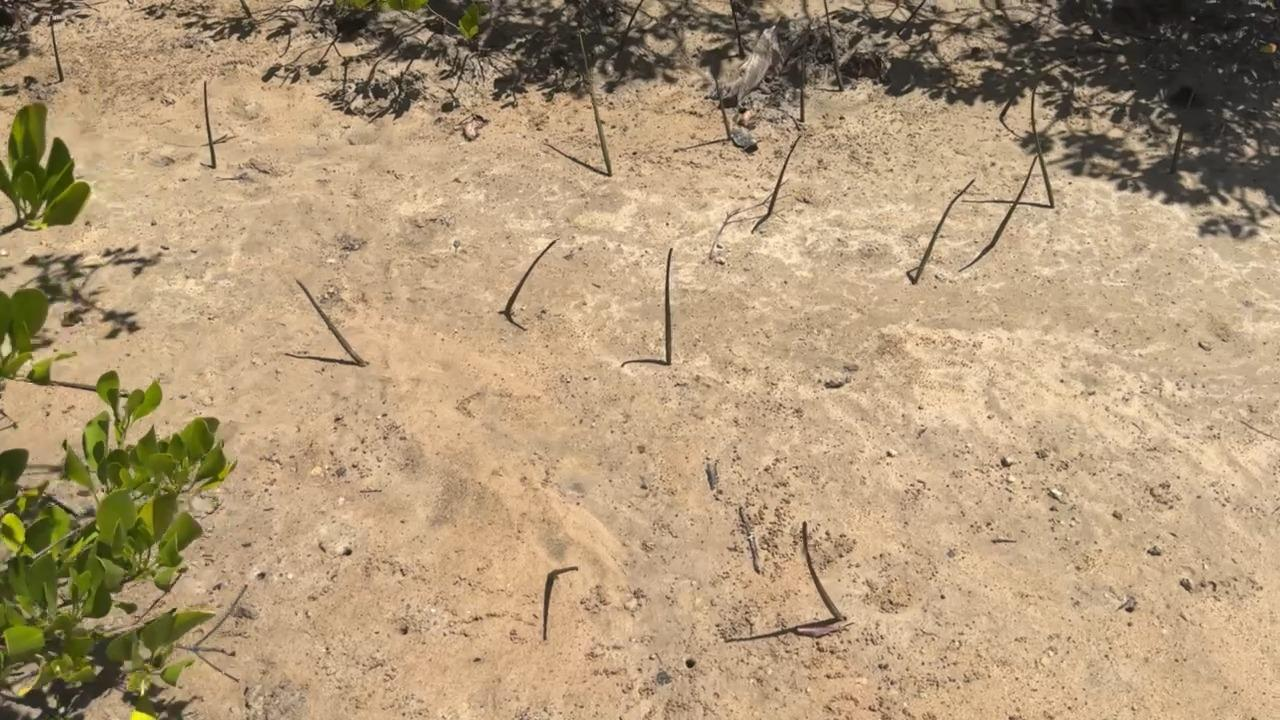Tree: (912, 176, 977, 284), (294, 276, 369, 367), (576, 26, 614, 178), (998, 57, 1077, 121), (990, 155, 1039, 248), (801, 520, 845, 623), (504, 239, 558, 316), (1030, 83, 1056, 209), (766, 136, 802, 219), (1169, 76, 1197, 177), (822, 0, 846, 91), (707, 60, 733, 141), (616, 0, 646, 68), (202, 79, 218, 170), (664, 246, 674, 367), (797, 21, 808, 124), (728, 0, 747, 58), (49, 11, 64, 82), (548, 566, 579, 580), (242, 0, 252, 17)
